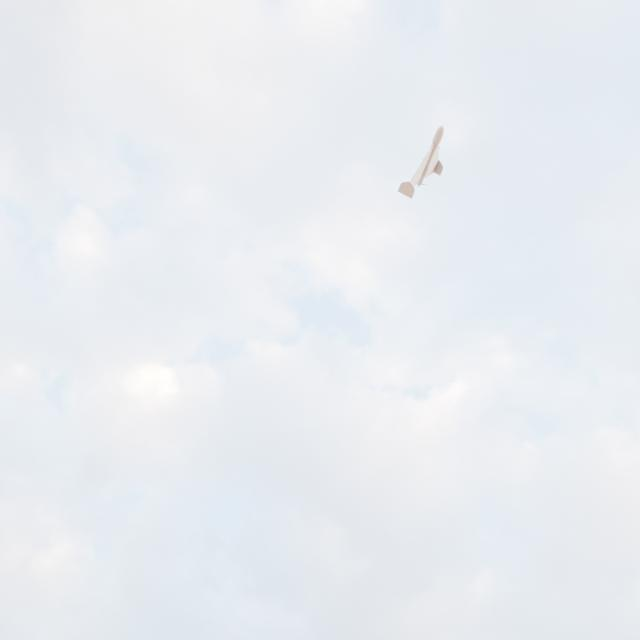Airaplan: (398, 125, 445, 199)
